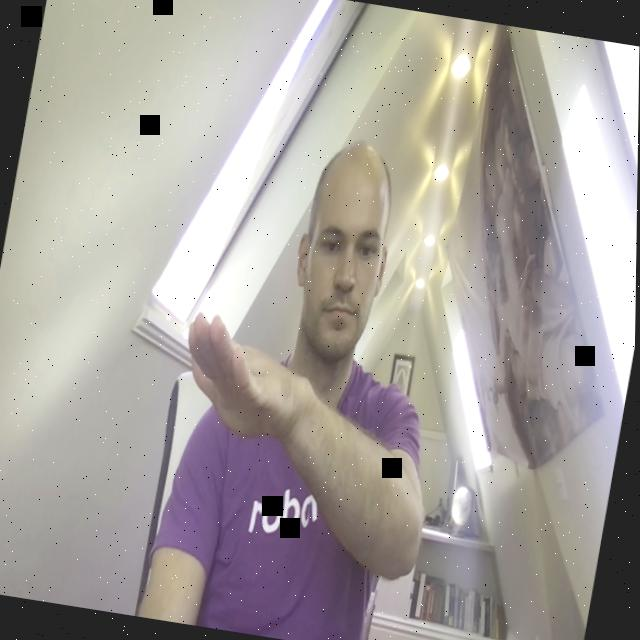Paper: (171, 320, 326, 451)
